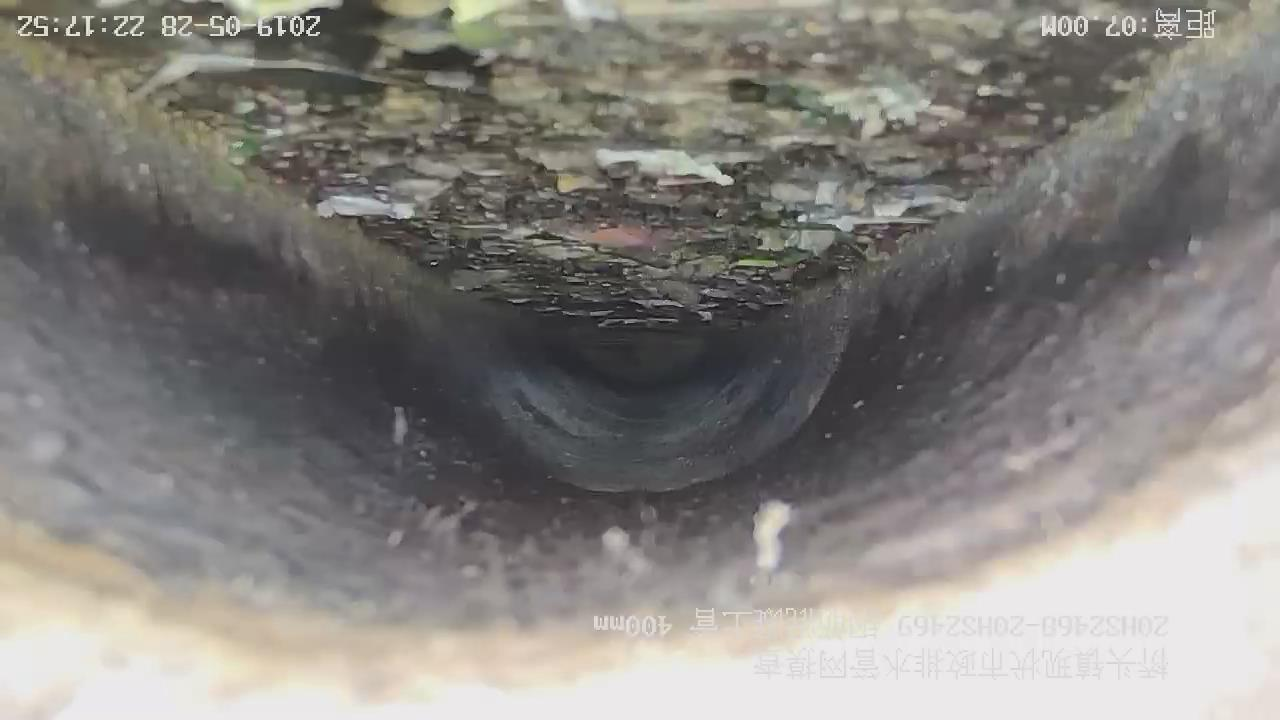CJ: (6, 1, 1216, 327)
